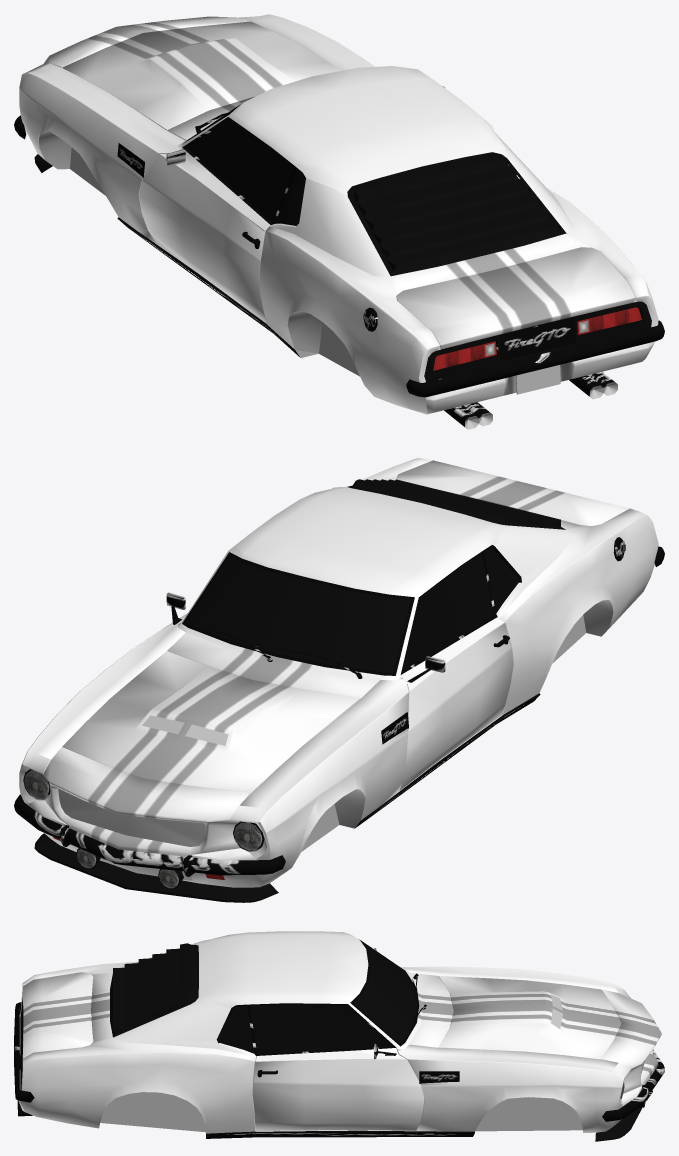
File: gta_chassis.obj
The picture shows the model from 3 angles, top to bottom: view 1: azimuth 30°, elevation 25°; view 2: azimuth 150°, elevation 25°; view 3: azimuth 270°, elevation 25°; orthographic projection. The views are drawn at different scales.
Parts seen in each view (by area): view 1: submesh0, submesh10, submesh6, submesh8, submesh1, submesh9, submesh2, submesh3; view 2: submesh0, submesh6, submesh8, submesh10, submesh5, submesh1, submesh7; view 3: submesh0, submesh6, submesh10, submesh1, submesh8, submesh9, submesh5.
Boxes of the visible parts, x1,y1,x2,y2 form: submesh0: (19,14,658,414); submesh10: (34,152,651,382); submesh6: (186,105,559,270); submesh8: (14,86,664,426); submesh1: (39,131,617,429); submesh9: (117,143,576,360); submesh2: (433,307,641,370); submesh3: (516,365,560,394); submesh0: (19,458,658,887); submesh6: (186,547,518,672); submesh8: (14,538,664,889); submesh10: (34,479,623,902); submesh5: (58,715,228,880); submesh1: (295,600,613,860); submesh7: (24,770,262,888); submesh0: (18,931,661,1133); submesh6: (218,941,417,1054); submesh10: (20,943,643,1141); submesh1: (100,1092,582,1132); submesh8: (14,939,664,1138); submesh9: (22,1024,459,1083); submesh5: (551,994,645,1073).
Size of the model in its own units: 1.81 by 1.13 by 4.85.
